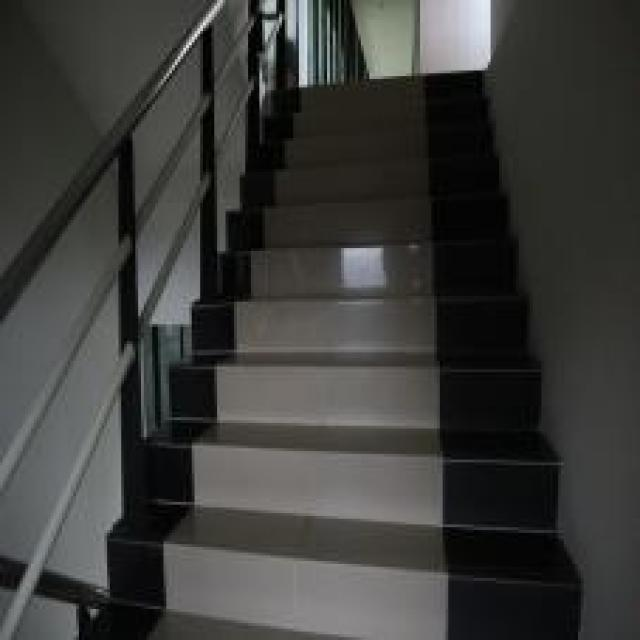upstair: (230, 213, 523, 585)
